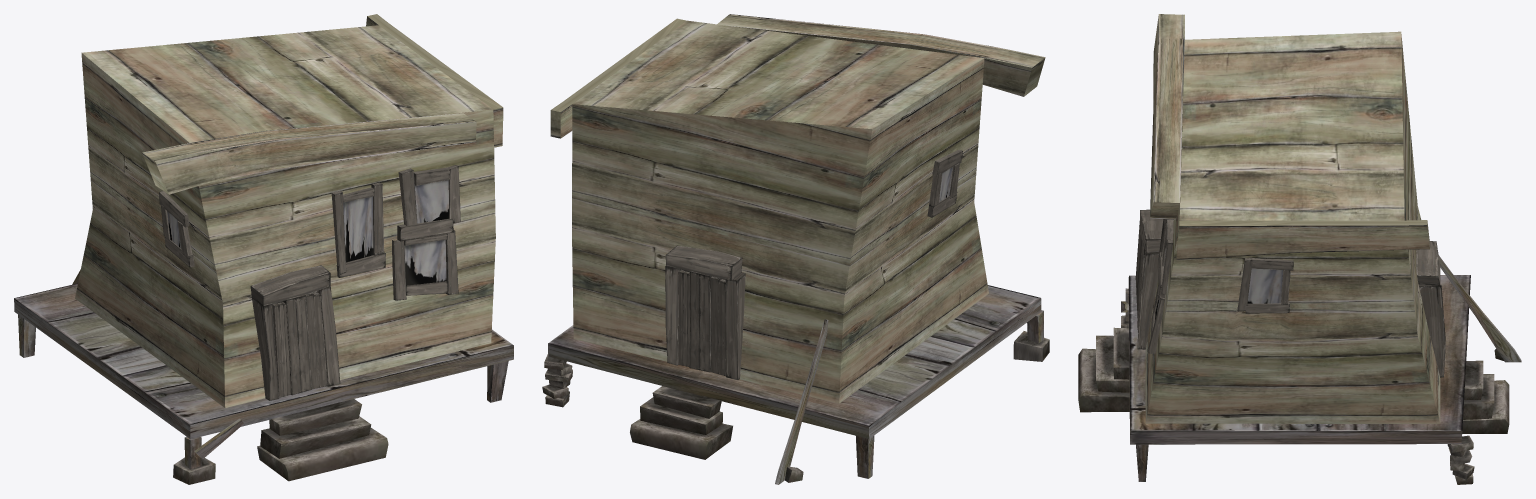
The model's file is shanty_npc_house_combo_C.fbx.
3 renders of one model, left to right at view 1: azimuth 30°, elevation 25°; view 2: azimuth 150°, elevation 25°; view 3: azimuth 270°, elevation 25°, orthographic.
Parts seen in each view (by area): view 1: shanty_tavern_polySurface147, platform, polySurface143, door_right, stair1, stair2, door_frame_1, stair3, win_certurn.004, polySurface145, win_certurn.001, door_frame_3 (+14 smaller); view 2: shanty_tavern_polySurface147, platform, polySurface143, door_left, stair1.001, polySurface145, door_frame_2.001, door_frame_1.001, stair2.001, wood_support, stair3.001, door_frame_3.001 (+2 smaller); view 3: shanty_tavern_polySurface147, platform, polySurface145, polySurface143, stair1, door_frame_3.001, stair1.001, door_frame_2, wood_support, stair2, win_certurn.002, door_frame_1.001 (+6 smaller).
Part boxes in pixels (x1=…): shanty_tavern_polySurface147: x1=75, y1=25, x2=495, y2=407; platform: x1=14, y1=283, x2=513, y2=439; polySurface143: x1=142, y1=113, x2=476, y2=194; door_right: x1=272, y1=292, x2=327, y2=397; stair1: x1=257, y1=427, x2=388, y2=481; stair2: x1=260, y1=416, x2=371, y2=458; door_frame_1: x1=250, y1=265, x2=330, y2=305; stair3: x1=269, y1=399, x2=361, y2=435; win_certurn.004: x1=343, y1=196, x2=373, y2=262; polySurface145: x1=366, y1=14, x2=503, y2=147; win_certurn.001: x1=404, y1=240, x2=446, y2=287; door_frame_3: x1=252, y1=298, x2=279, y2=400; shanty_tavern_polySurface147: x1=572, y1=20, x2=988, y2=403; platform: x1=548, y1=285, x2=1041, y2=438; polySurface143: x1=717, y1=14, x2=1045, y2=96; door_left: x1=678, y1=270, x2=726, y2=376; stair1.001: x1=630, y1=419, x2=732, y2=459; polySurface145: x1=550, y1=18, x2=686, y2=138; door_frame_2.001: x1=725, y1=272, x2=745, y2=379; door_frame_1.001: x1=665, y1=245, x2=742, y2=280; stair2.001: x1=640, y1=397, x2=722, y2=434; wood_support: x1=775, y1=319, x2=828, y2=484; stair3.001: x1=652, y1=386, x2=721, y2=418; door_frame_3.001: x1=665, y1=265, x2=681, y2=365; shanty_tavern_polySurface147: x1=1145, y1=31, x2=1440, y2=423; platform: x1=1128, y1=275, x2=1470, y2=444; polySurface145: x1=1176, y1=220, x2=1429, y2=260; polySurface143: x1=1150, y1=14, x2=1184, y2=219; stair1: x1=1078, y1=348, x2=1129, y2=412; door_frame_3.001: x1=1419, y1=284, x2=1445, y2=377; stair1.001: x1=1462, y1=380, x2=1509, y2=433; door_frame_2: x1=1137, y1=252, x2=1158, y2=349; wood_support: x1=1438, y1=255, x2=1521, y2=362; stair2: x1=1096, y1=335, x2=1129, y2=392; win_certurn.002: x1=1247, y1=268, x2=1282, y2=303; door_frame_1.001: x1=1416, y1=241, x2=1440, y2=285.
Bounding box in the file's own units: 3557 × 3027 × 3883.
2 materials, 2 textured.
